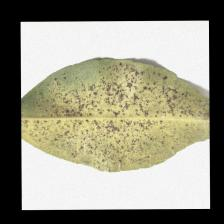canker: (51, 76, 163, 157)
